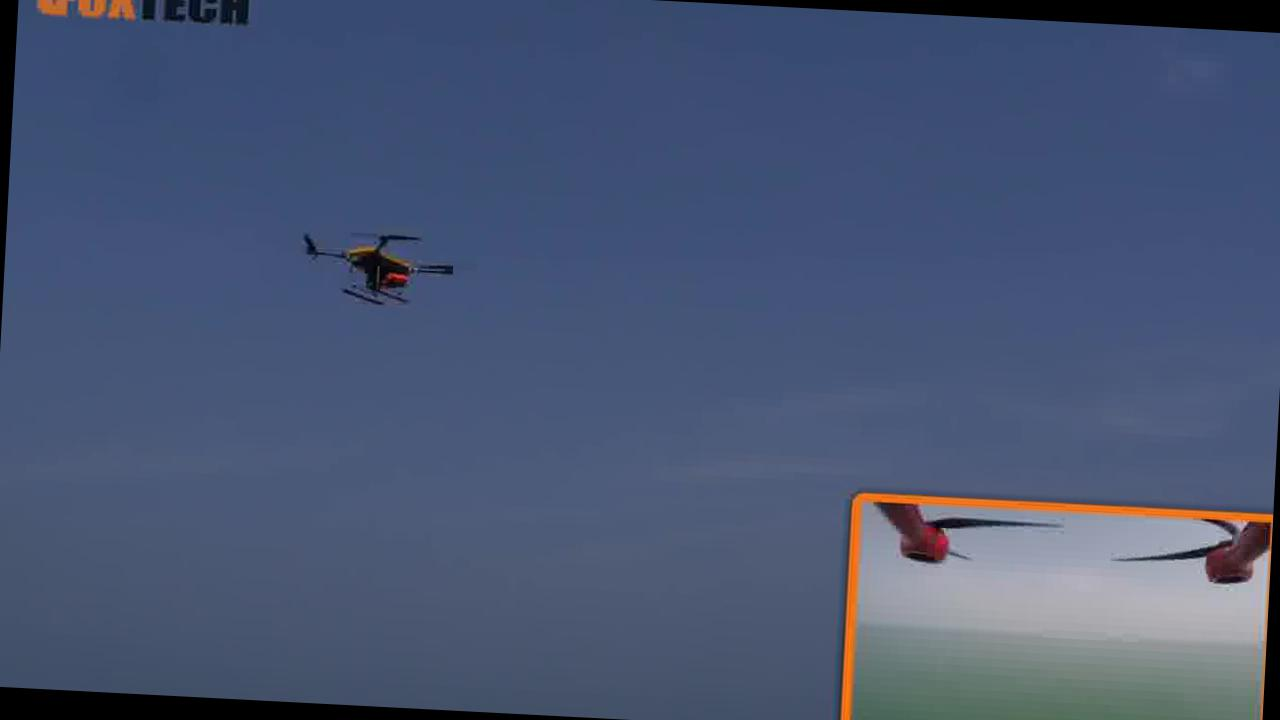drone: (286, 206, 460, 318)
